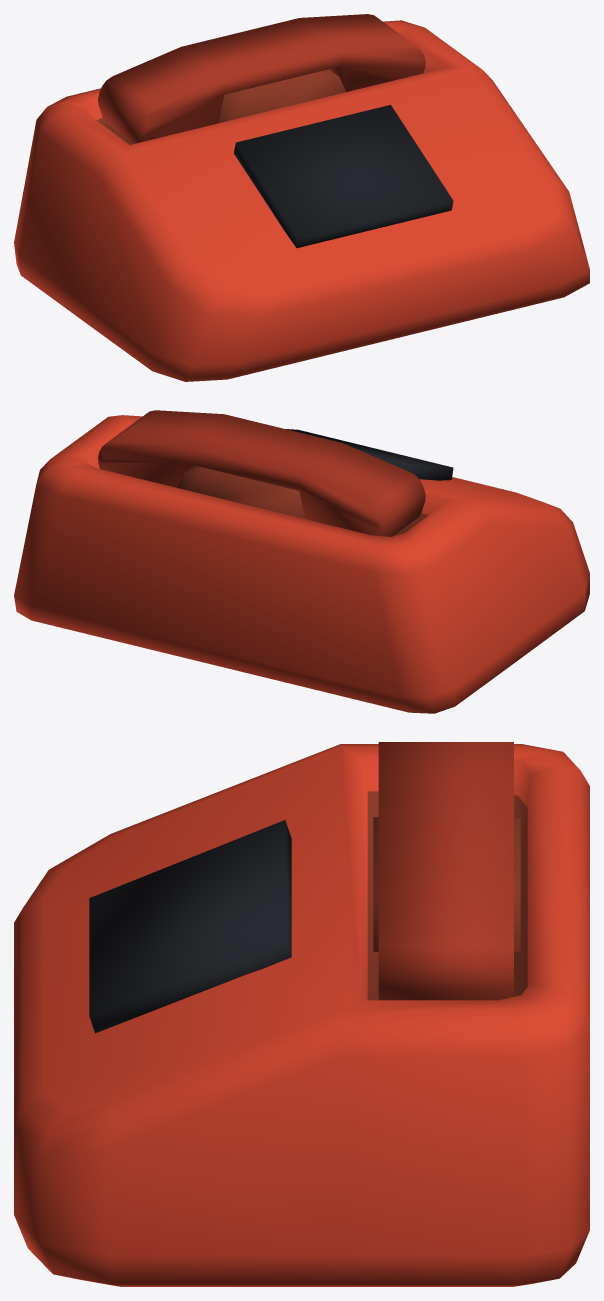
Rendered from PROP_Phone.fbx.
3 views of the same model, one above another, from view 1: azimuth 30°, elevation 25°; view 2: azimuth 150°, elevation 25°; view 3: azimuth 270°, elevation 25° (orthographic). The views are drawn at different scales.
Visible parts, largest first — view 1: Phone; view 2: Phone; view 3: Phone.
Part boxes in pixels (bbox=[...]): Phone: bbox=[14, 14, 589, 381]; Phone: bbox=[14, 410, 589, 713]; Phone: bbox=[14, 742, 589, 1286].
Size of the model in its own units: 0.2864 by 0.1254 by 0.21.
